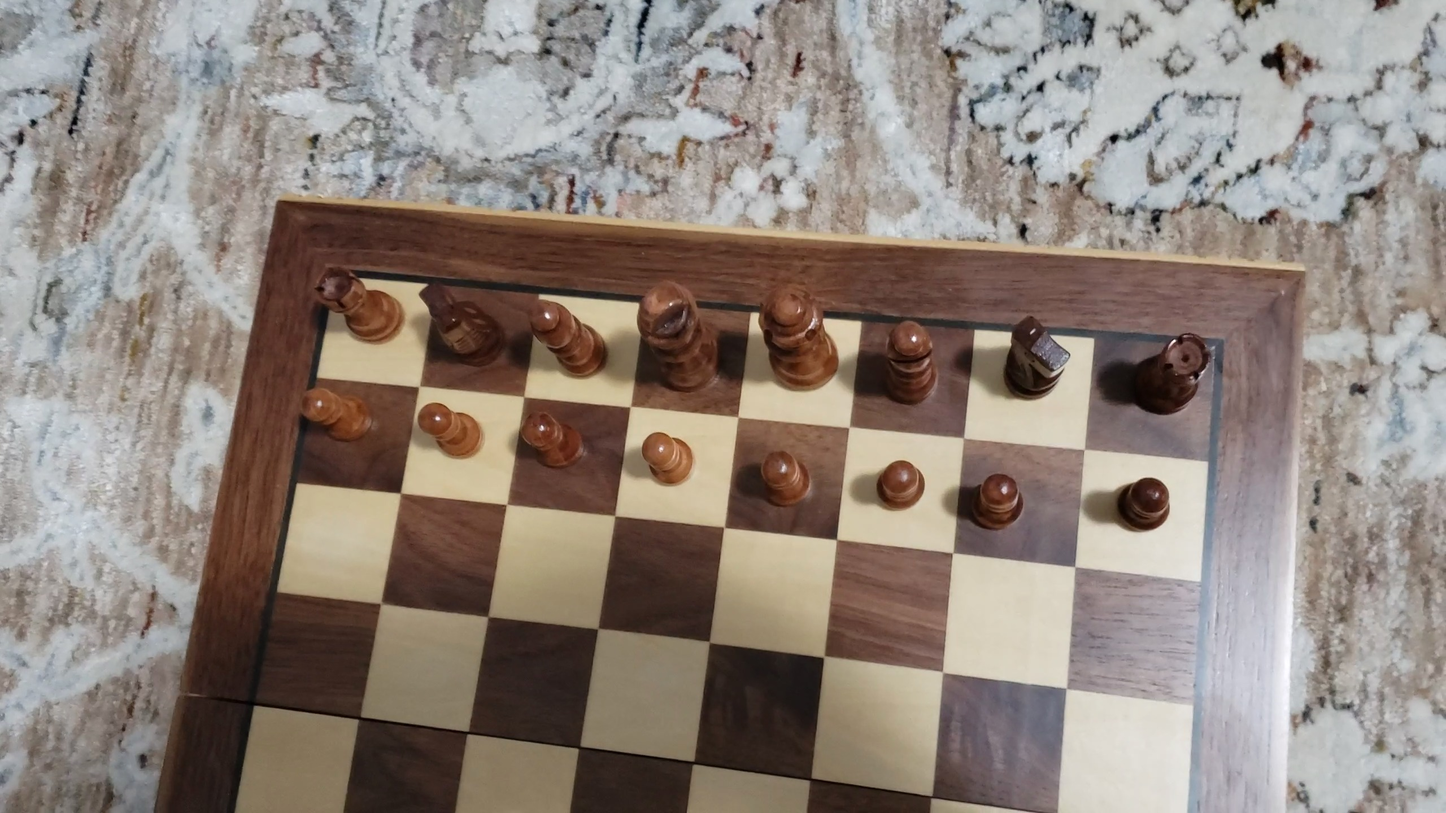black-bishop: (529, 295, 608, 378), (883, 320, 939, 404)
black-king: (625, 272, 724, 392)
black-knight: (421, 282, 505, 367), (1002, 314, 1069, 401)
black-pawn: (292, 378, 376, 448), (1109, 465, 1180, 542), (519, 409, 584, 469), (869, 450, 929, 515), (418, 403, 484, 460), (639, 427, 695, 488), (968, 472, 1019, 530), (760, 450, 810, 506)
black-queen: (749, 280, 848, 398)
black-rook: (313, 264, 403, 345), (1134, 333, 1213, 417)
